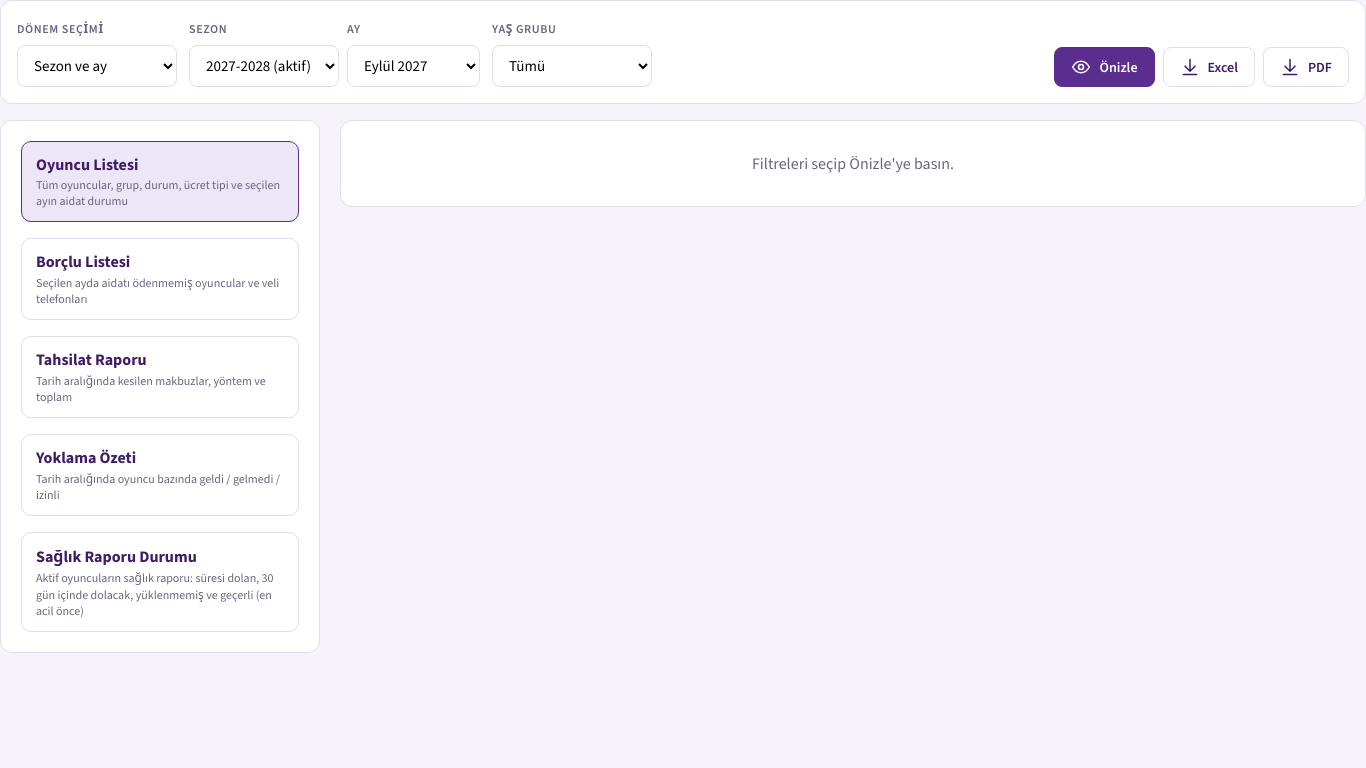
Raporlar sezon + ay filtresi › sağlık raporu: Tümü → bugün, ay → ayın son günü; sezon oyuncu kümesi
Expected: the dropdown labelled "Sezon" shows "2027-2028 (aktif)", [189,45,339,87]
Click the button "Sağlık Raporu Durumu" at coordinates (160, 582), box [21,532,299,632]
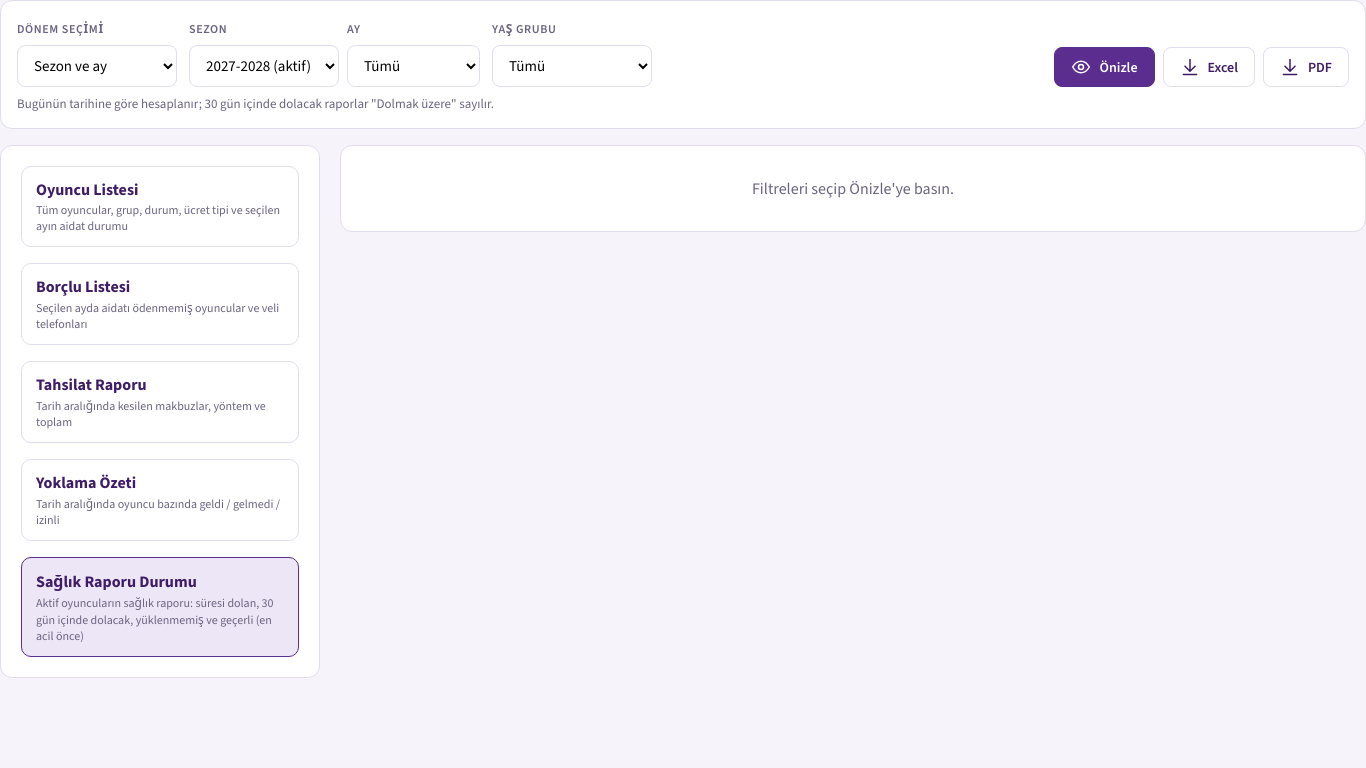
Select "Tümü" in the dropdown labelled "Ay" at coordinates (414, 66), box [347,45,480,87]
Click the button "Önizle" at coordinates (1104, 67), box [1054,47,1154,87]
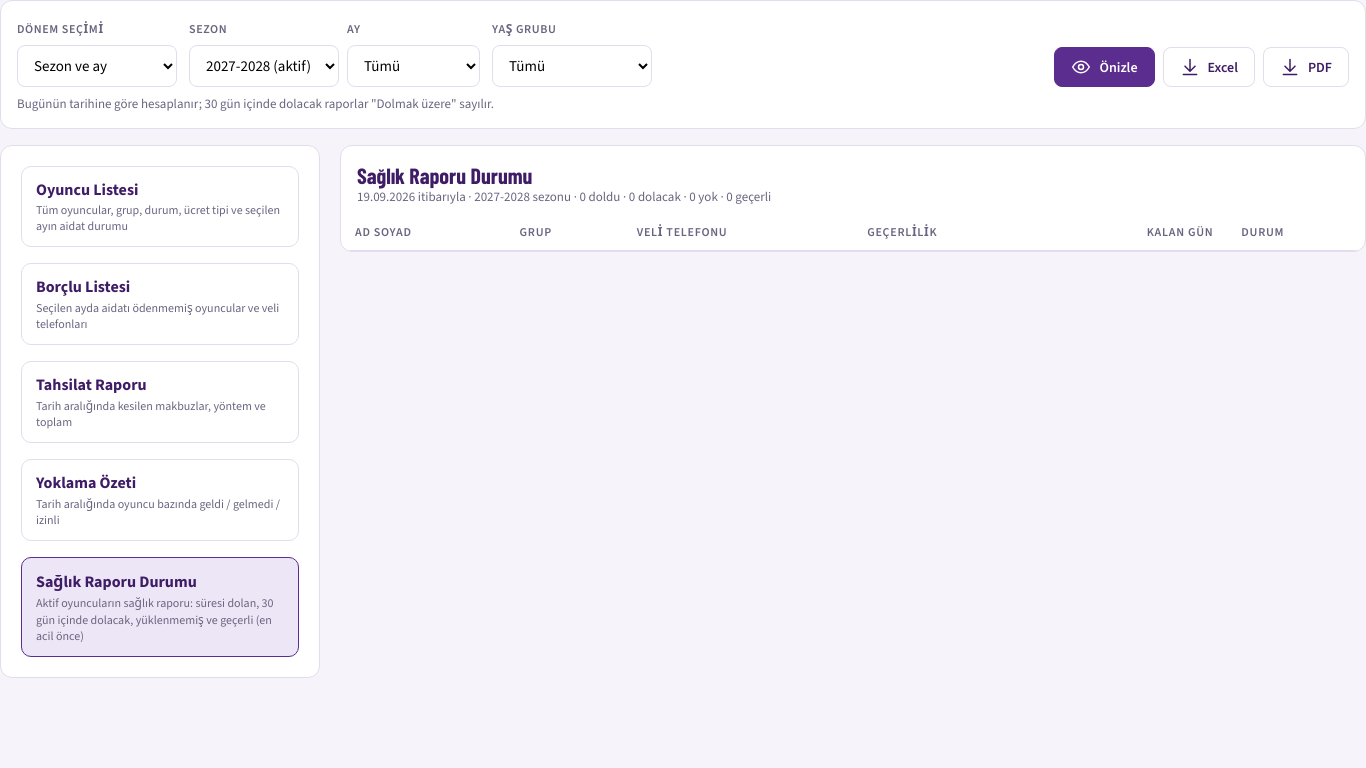
Select "Ekim 2027" in the dropdown labelled "Ay" at coordinates (414, 66), box [347,45,480,87]
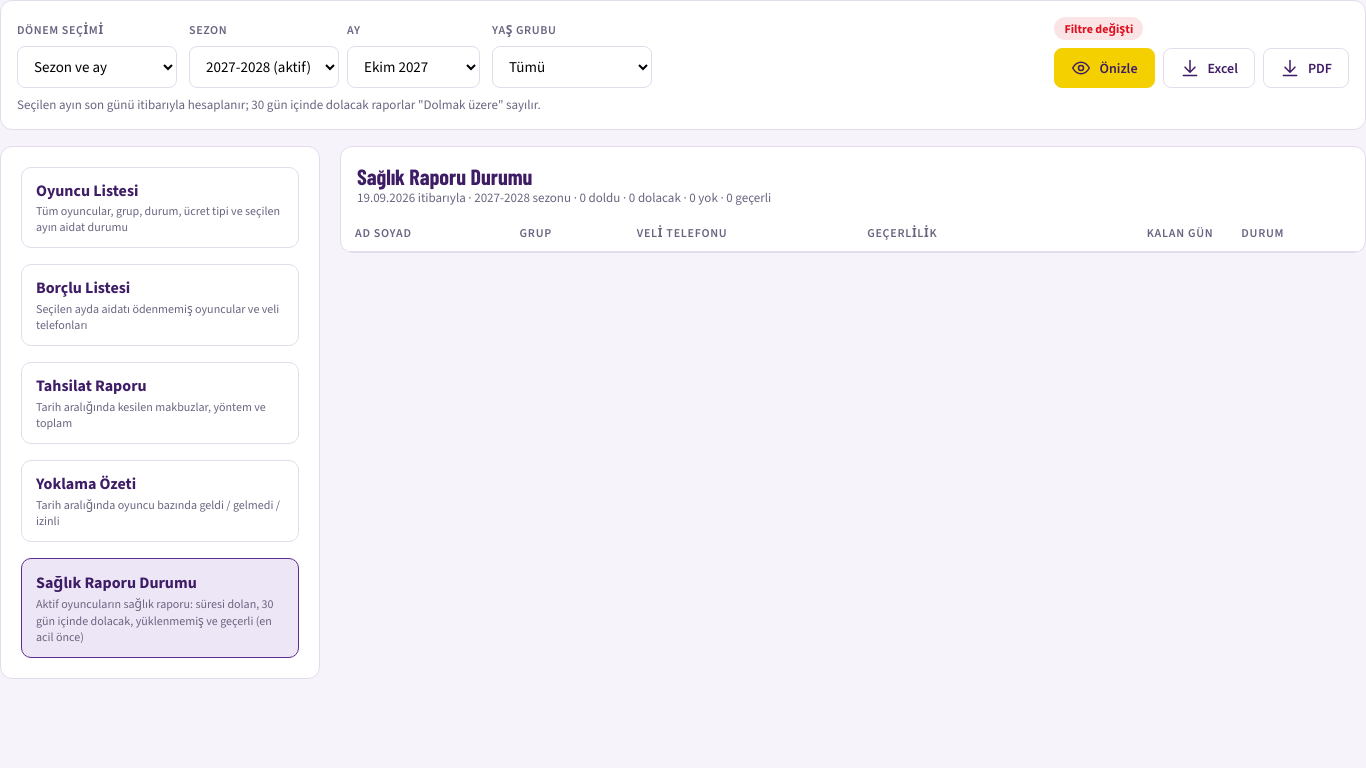
Click the button "Önizle" at coordinates (1104, 68), box [1054,48,1154,88]
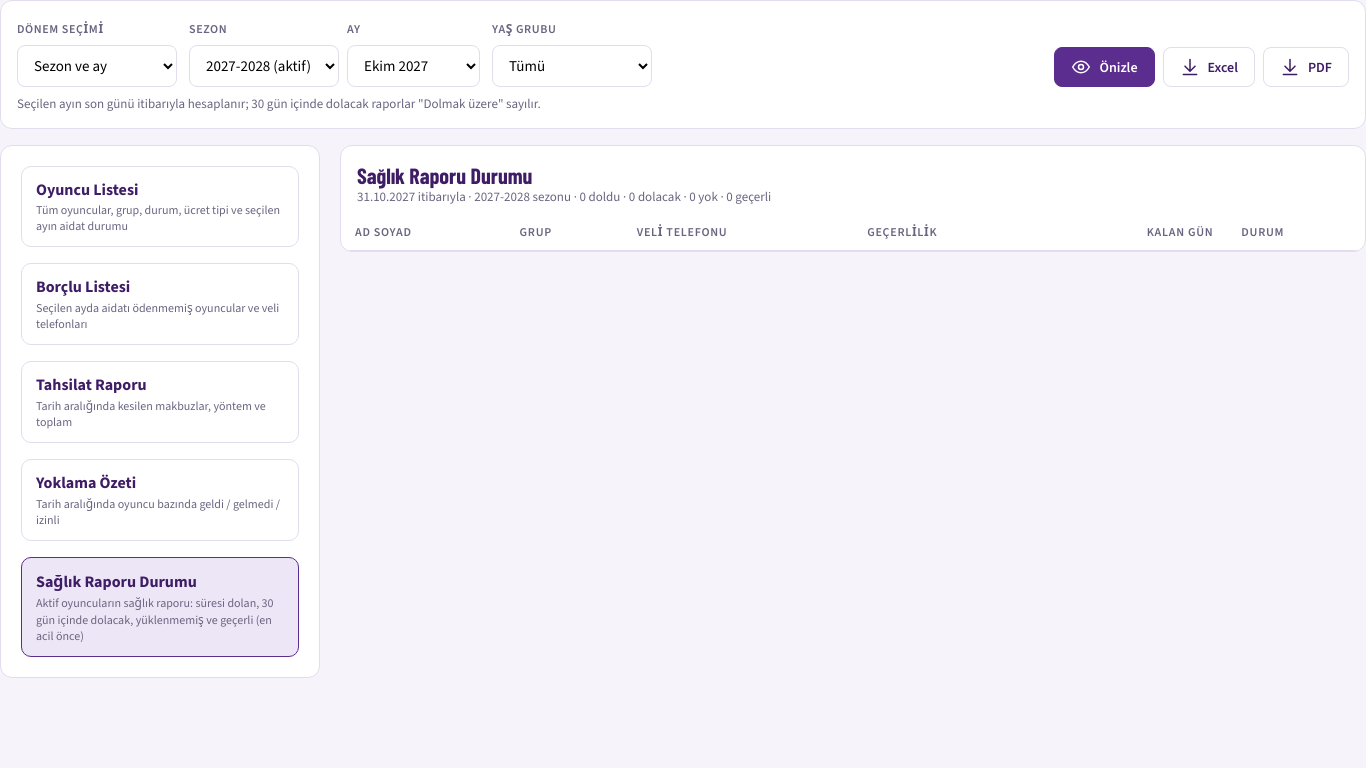
Expected: the text "31.10.2027 itibarıyla · 2027-2028 sezonu" is shown, [357,188,771,205]
